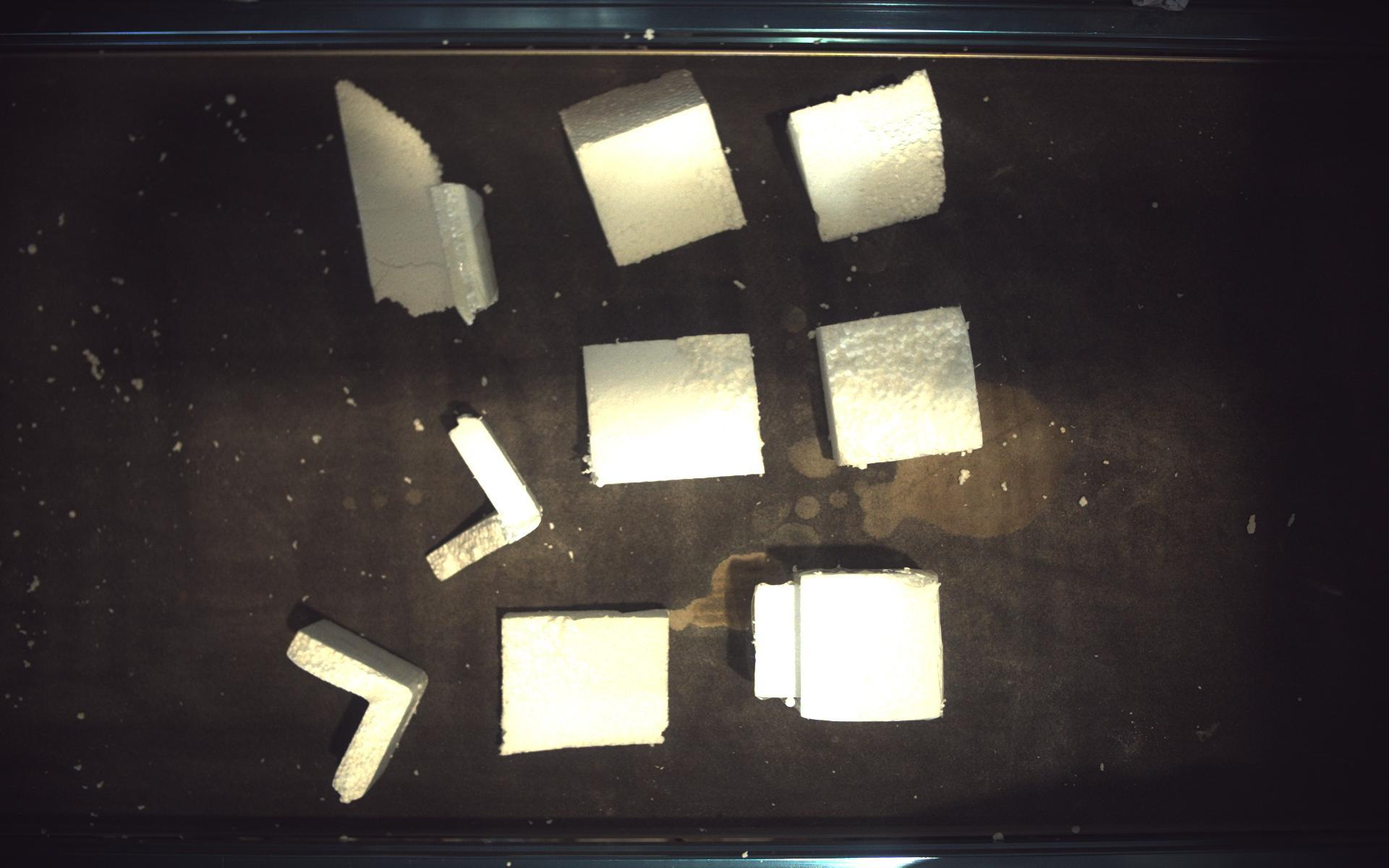foam: (335, 79, 498, 324), (561, 68, 747, 265), (755, 570, 945, 723), (584, 334, 765, 486), (790, 69, 948, 241), (818, 307, 985, 468), (286, 621, 428, 804), (501, 611, 670, 757), (427, 409, 542, 582)
